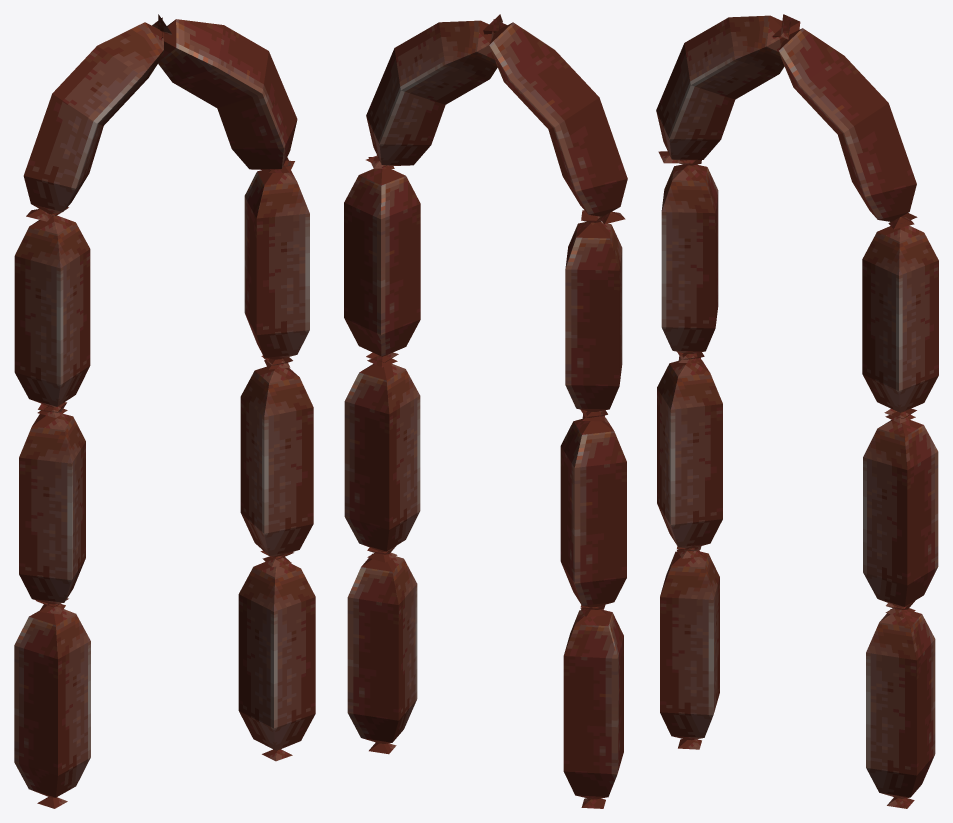
File: sausage_link.glb
3 views of the same model, side by side, from view 1: azimuth 30°, elevation 25°; view 2: azimuth 150°, elevation 25°; view 3: azimuth 330°, elevation 25° (orthographic).
Visible parts, largest first — view 1: sausage_link; view 2: sausage_link; view 3: sausage_link.
Part boxes in pixels (x1,y1,x2,y2): sausage_link: (14,14,315,808); sausage_link: (344,14,627,808); sausage_link: (656,14,938,808).
Size of the model in its own units: 0.3319 by 0.865 by 0.0943.
1 material, 1 textured.
